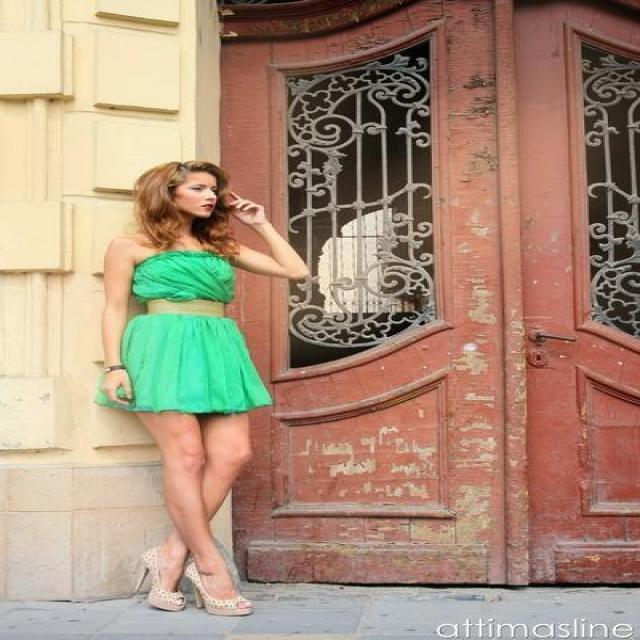dress: (93, 252, 270, 421)
shoe: (148, 576, 255, 619)
